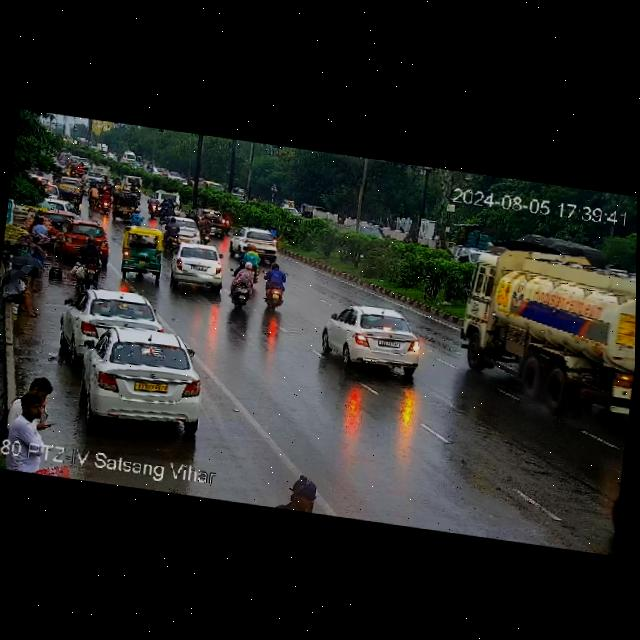car: (74, 320, 209, 431), (312, 297, 430, 375), (61, 282, 163, 357), (169, 237, 231, 295), (51, 217, 116, 269), (117, 223, 170, 279), (226, 223, 284, 270), (115, 172, 147, 199), (109, 190, 138, 219), (299, 202, 314, 221)
motorcycle: (70, 234, 108, 293), (259, 257, 294, 313), (223, 256, 258, 310), (55, 177, 86, 207), (156, 213, 186, 243), (195, 215, 216, 243), (153, 198, 178, 220), (97, 186, 112, 218), (86, 182, 100, 209), (66, 161, 86, 179)
person: (0, 372, 73, 444), (0, 252, 47, 322), (25, 231, 51, 261)
truck: (453, 234, 637, 388)
